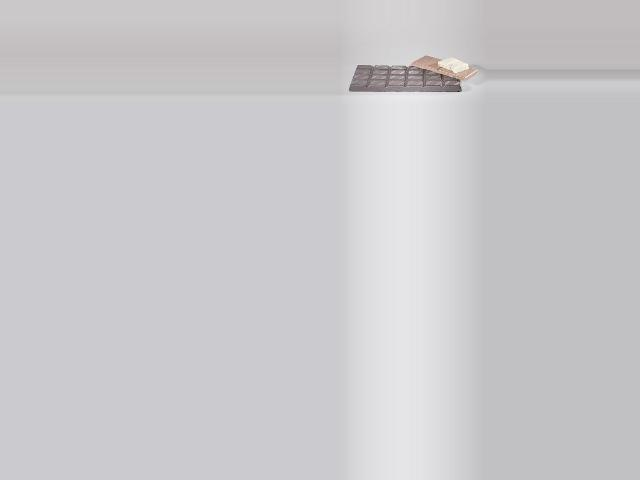chocolate: (348, 60, 468, 95)
